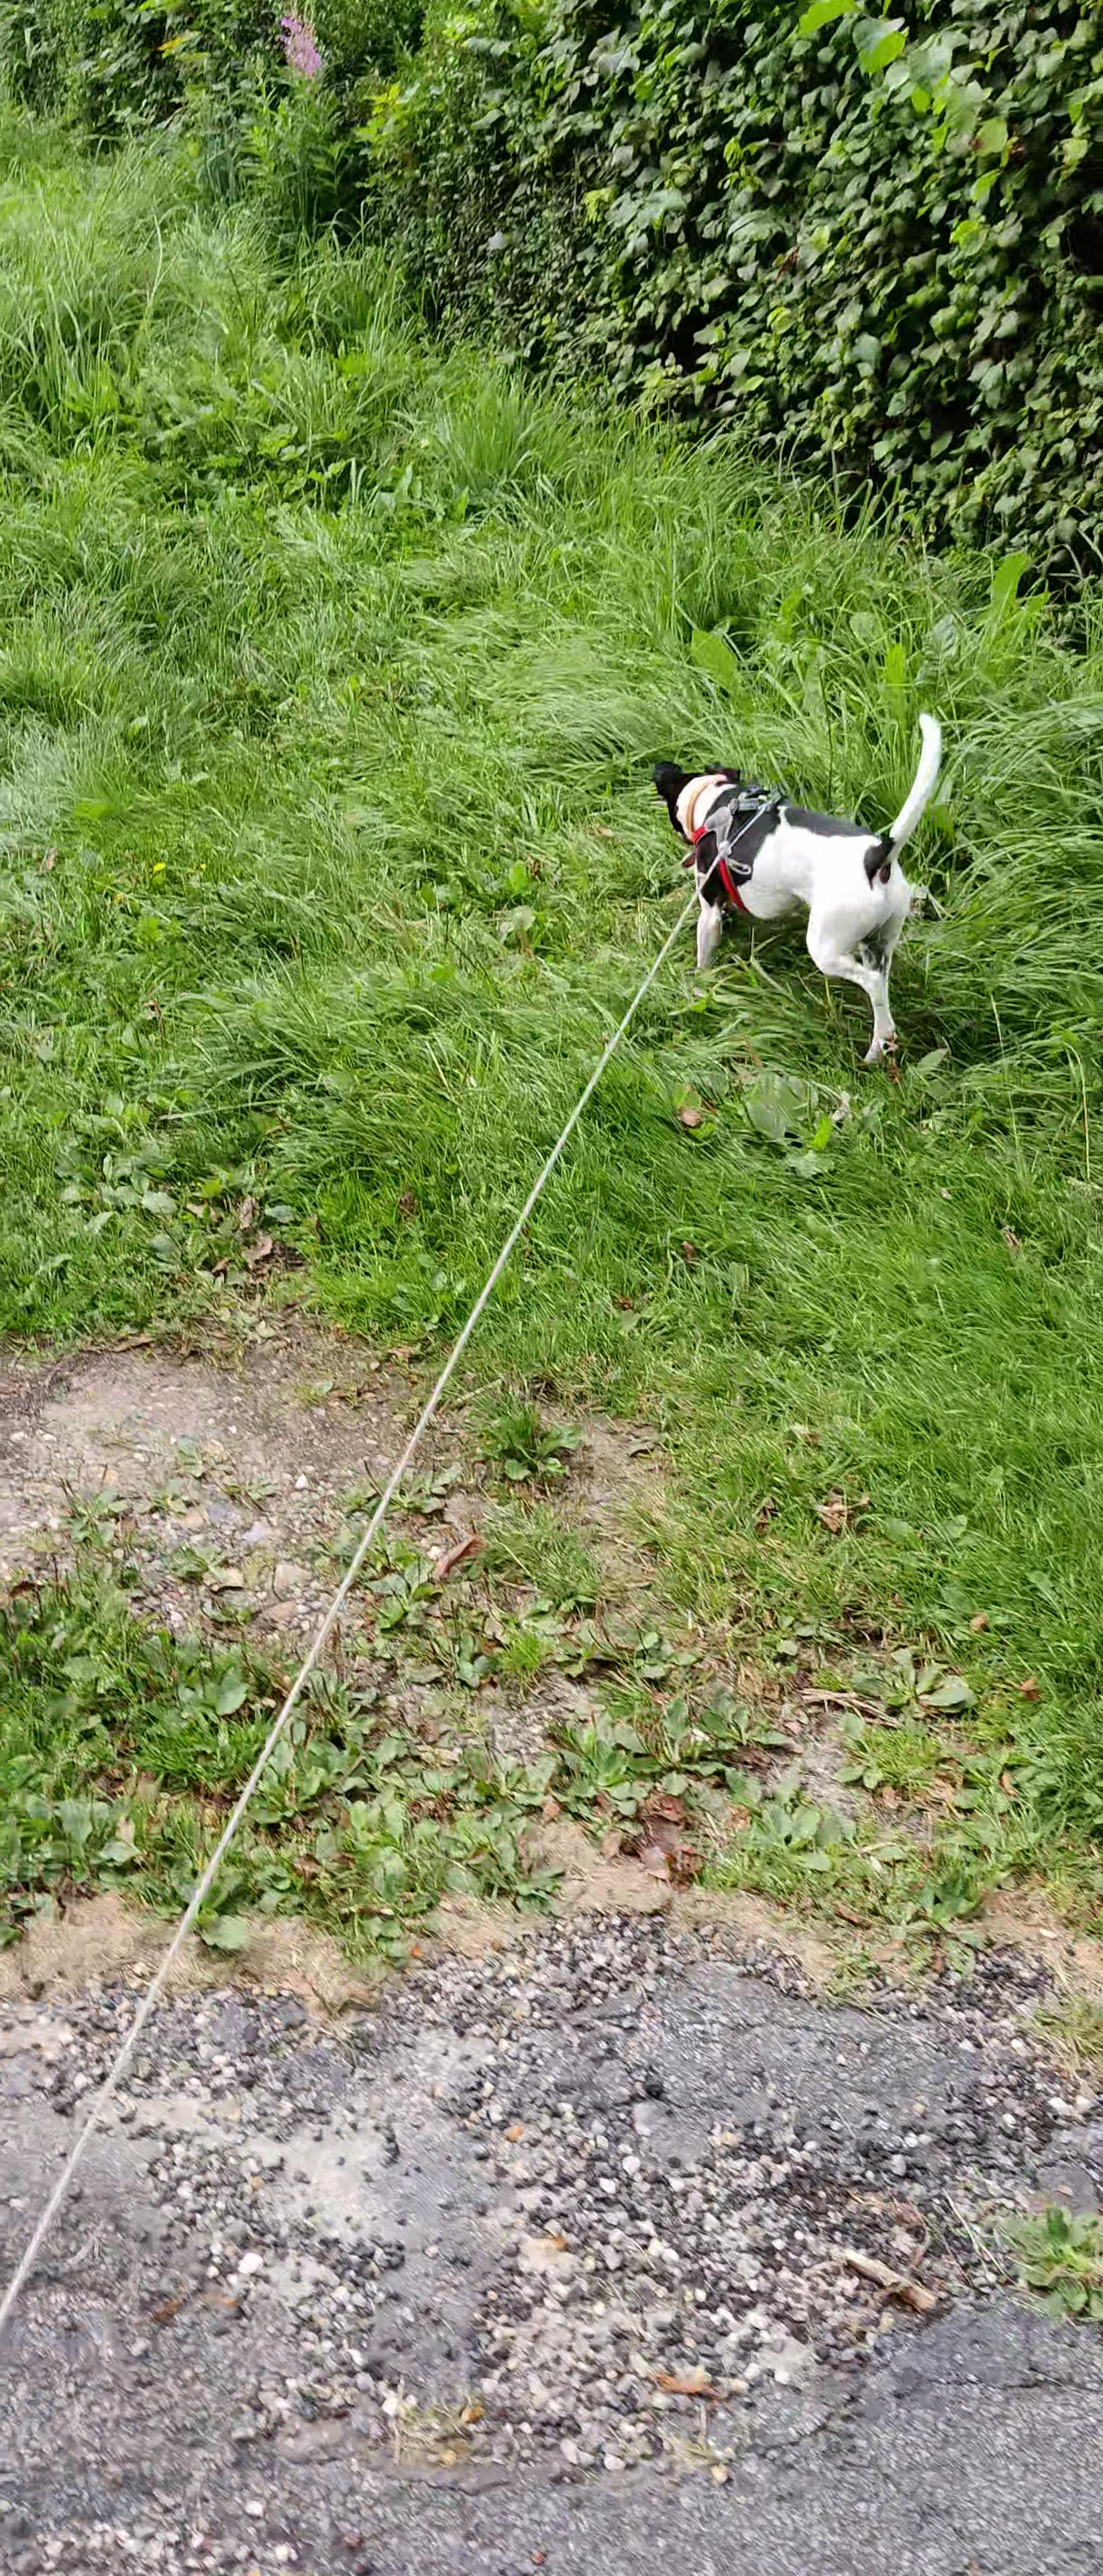Dog: (639, 678, 950, 1079)
